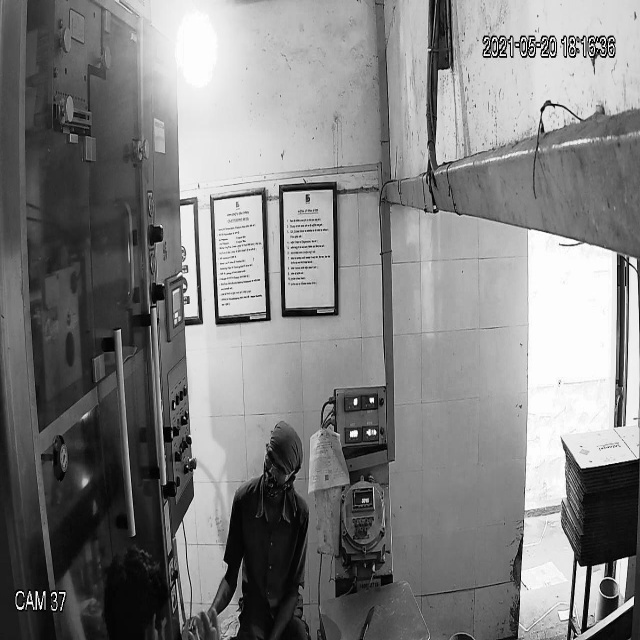Gafas: (262, 447, 291, 486)
